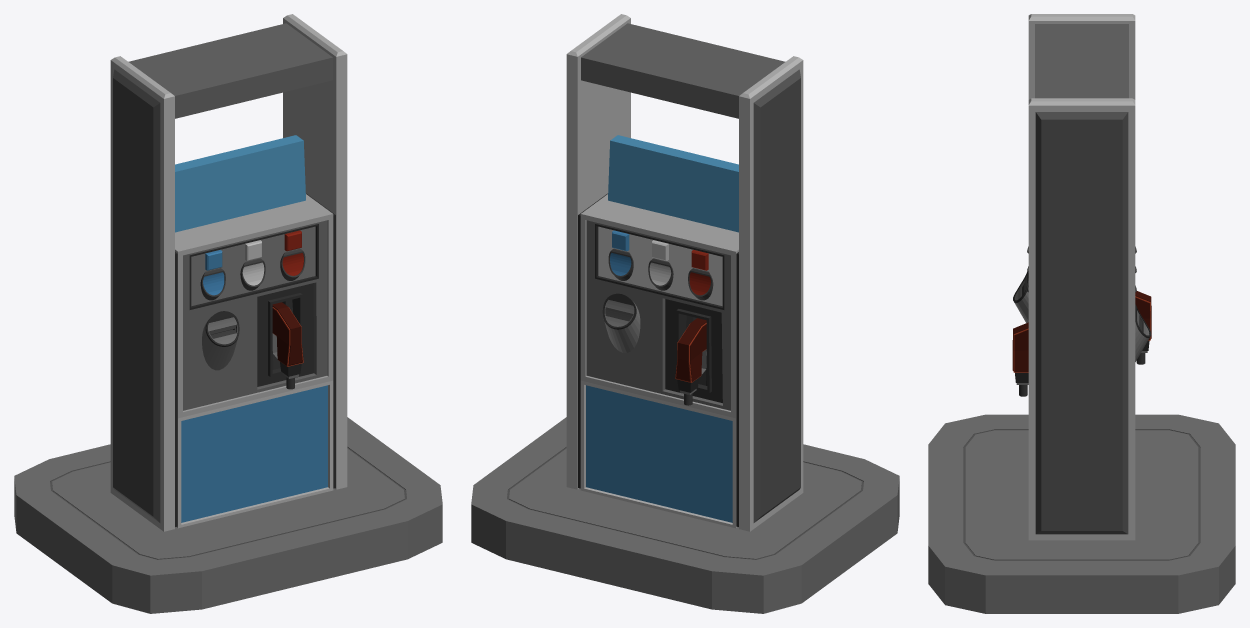
File: Gas Pump.fbx
3 renders of one model, left to right at view 1: azimuth 30°, elevation 25°; view 2: azimuth 150°, elevation 25°; view 3: azimuth 270°, elevation 25°, orthographic.
Visible parts, largest first — view 1: Gas Pump; view 2: Gas Pump; view 3: Gas Pump.
Part boxes in pixels (x1,y1,x2,y2): Gas Pump: [14, 14, 442, 613]; Gas Pump: [471, 14, 899, 613]; Gas Pump: [928, 14, 1235, 613].
Bounding box in the file's own units: 139 × 191 × 112.
Materials: 1 (1 with a texture image).
